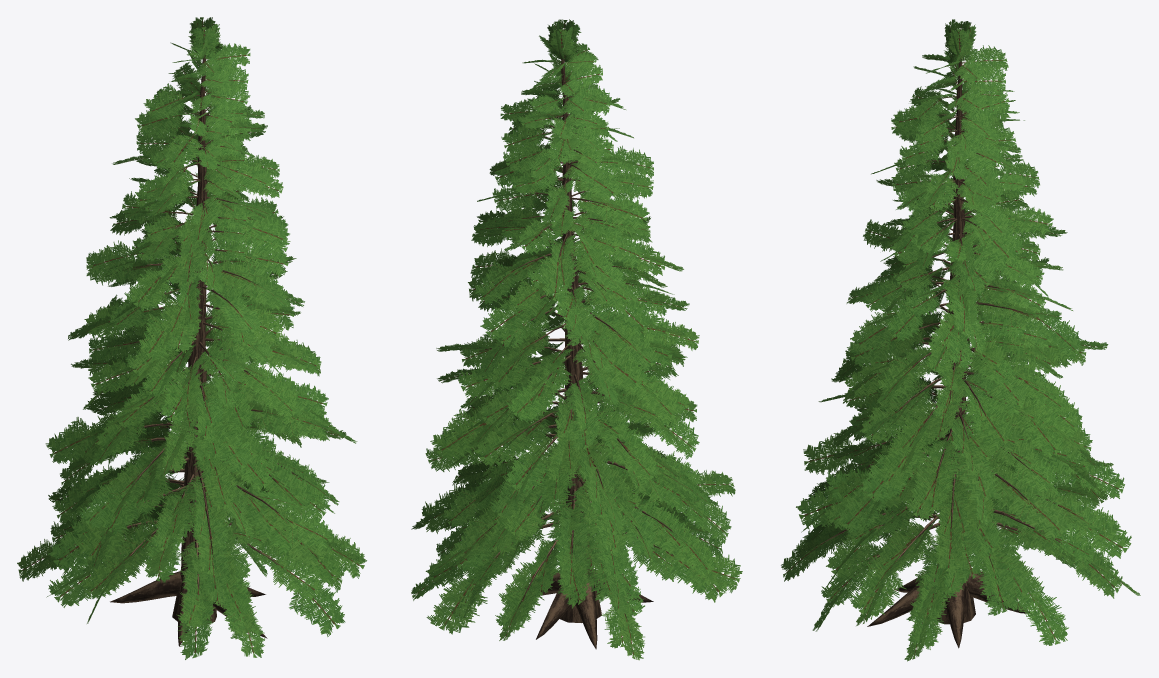
Rendered from tree-conifer-a.glb.
3 views of the same model, side by side, from view 1: azimuth 30°, elevation 25°; view 2: azimuth 150°, elevation 25°; view 3: azimuth 270°, elevation 25° (orthographic).
Visible parts, largest first — view 1: Tree_Conifer_A; view 2: Tree_Conifer_A; view 3: Tree_Conifer_A.
Boxes of the visible parts, bbox=[...] form: Tree_Conifer_A: bbox=[17, 17, 366, 659]; Tree_Conifer_A: bbox=[411, 19, 742, 660]; Tree_Conifer_A: bbox=[781, 19, 1140, 661].
Size of the model in its own units: 8.17 by 15.41 by 8.58.
Materials: 2 (2 with a texture image).
